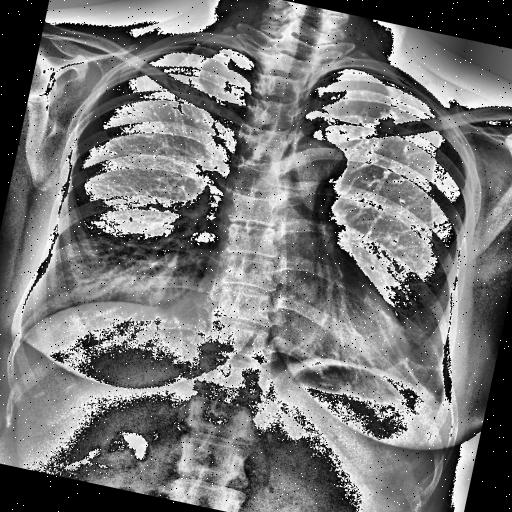13- Pulmonary fibrosis: (334, 288, 464, 412), (338, 76, 449, 214), (345, 100, 451, 200), (136, 57, 238, 142), (368, 340, 456, 414), (407, 357, 455, 380)
2- Calcification: (338, 76, 449, 214), (345, 100, 451, 200), (136, 57, 238, 142), (370, 106, 400, 132), (96, 141, 122, 160), (101, 146, 120, 160)
8- Nodule-Mass: (148, 93, 188, 125)
